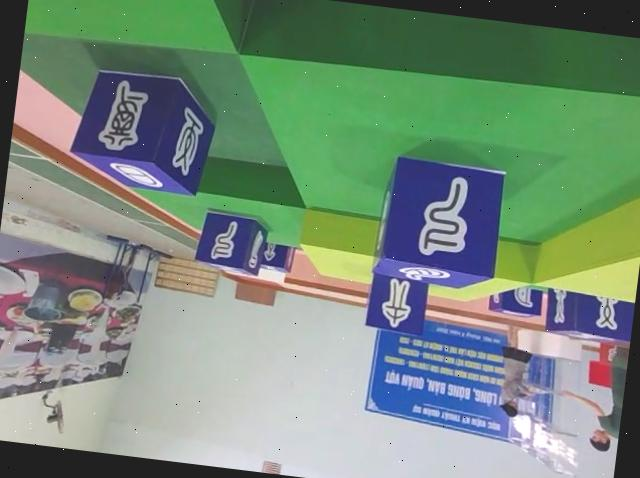R2 Fake Blue: (67, 63, 220, 195), (367, 149, 507, 291), (190, 207, 266, 277), (364, 270, 430, 337)
R2 Real Blue: (545, 286, 636, 343), (484, 280, 542, 317), (257, 240, 295, 273)
